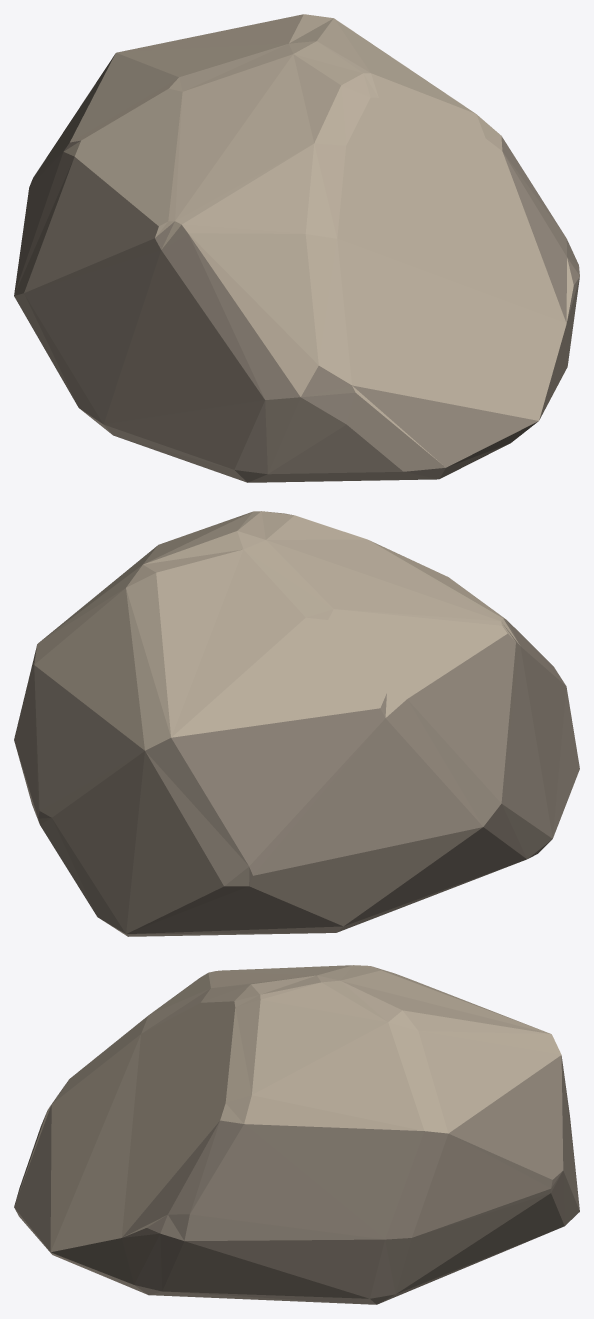
The picture shows the model from 3 angles, top to bottom: view 1: azimuth 30°, elevation 25°; view 2: azimuth 150°, elevation 25°; view 3: azimuth 270°, elevation 25°; orthographic projection. The views are drawn at different scales.
Visible parts, largest first — view 1: rock; view 2: rock; view 3: rock.
Boxes of the visible parts, x1,y1,x2,y2 form: rock: (14,14,579,482); rock: (14,511,579,936); rock: (14,965,579,1304).
Bounding box in the file's own units: 0.65 × 0.4 × 0.8.
